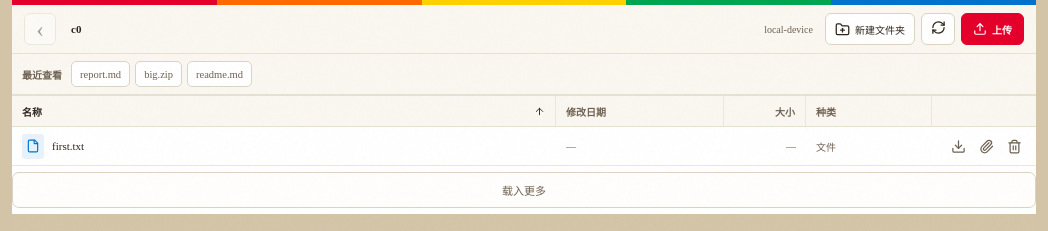
Test: channel file browser (FilesFeature + useAttachmentTransactions) › loads the next backend cursor and merges the page
Expected: the row "first.txt — — 文件" is shown, x1=12 y1=127 x2=1036 y2=166
Click the button "载入更多": (524,190) x1=12 y1=172 x2=1036 y2=208
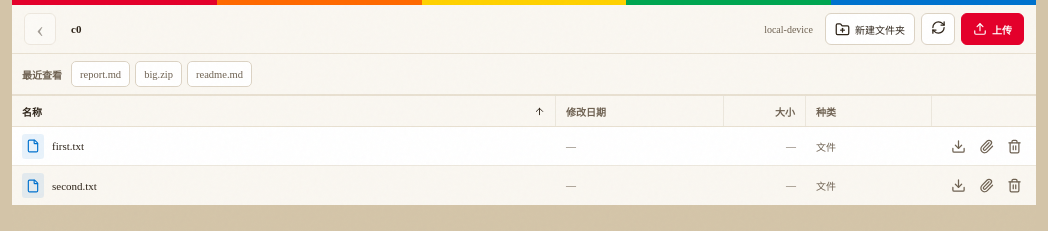
Now the row "second.txt — — 文件" is shown, box x1=12 y1=166 x2=1036 y2=205
